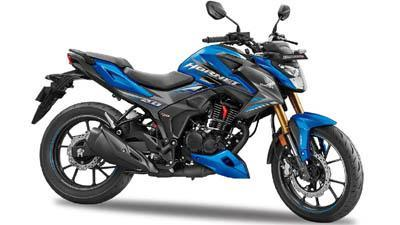motorbike: (31, 1, 363, 223)
